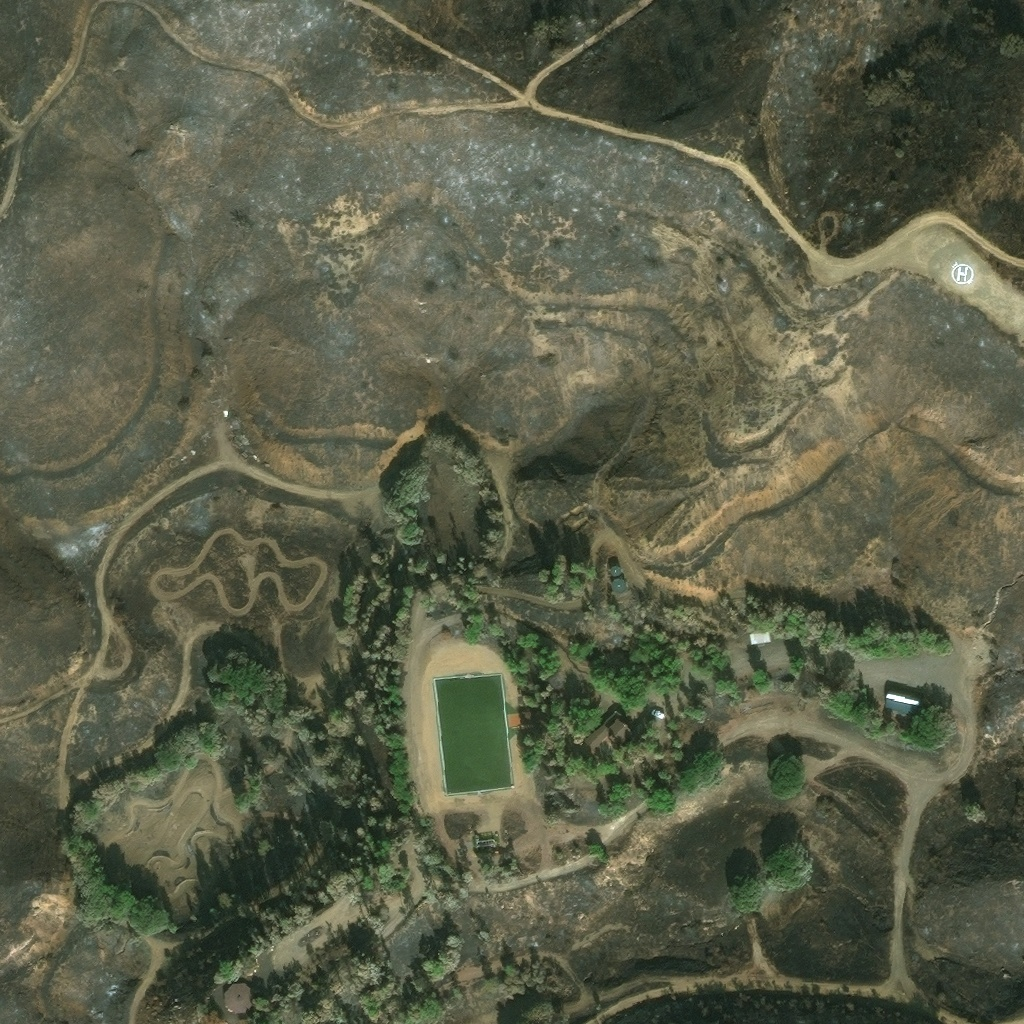0 no-damage: (580, 709, 635, 764), (883, 689, 922, 717), (223, 983, 255, 1015), (747, 629, 772, 645), (611, 577, 627, 594), (608, 564, 621, 578)
